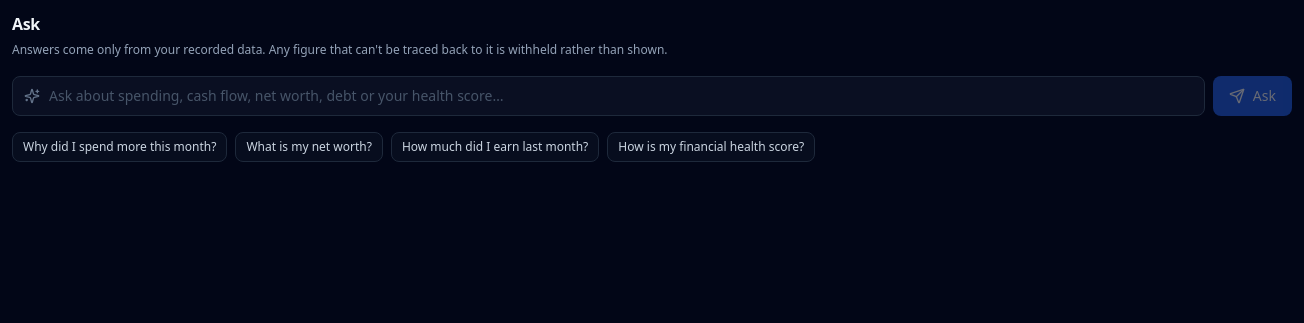
Test: AskSection › renders verified answer with simple string usedMetrics correctly
This screenshot has width=1304, height=323.
Replace the text in the field with placeholder "Ask about spending" with "How much did I earn last month?": (608, 96) [12,76,1205,116]
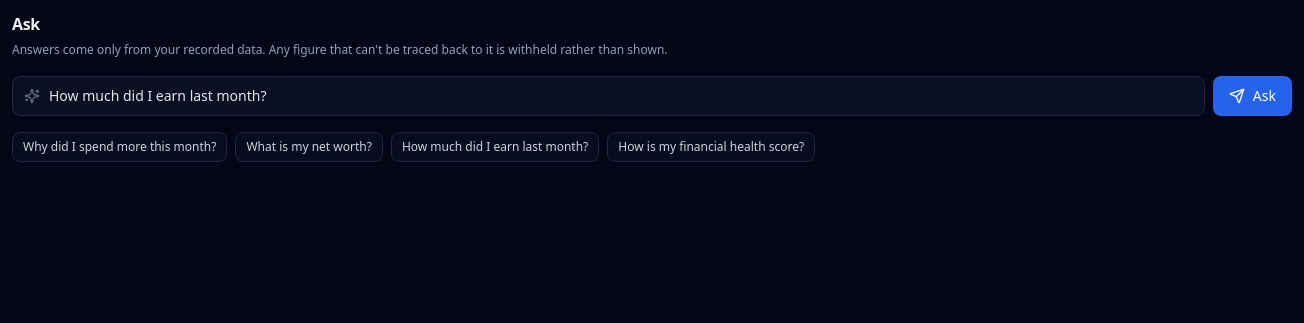
Submit the form with placeholder "Ask about spending", box [12,76,1292,116]
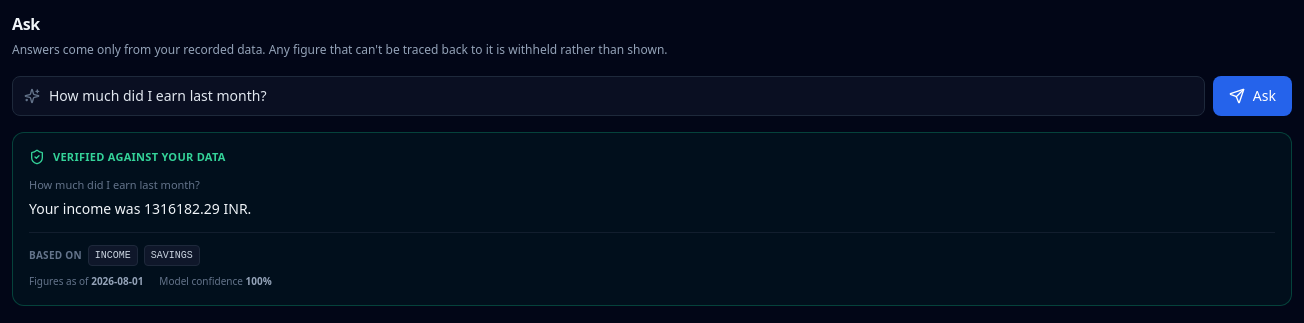
Result: the text "Your income was 1316182.29 INR." is shown at [29,198,251,218]
Result: the text "INCOME" is shown at [88,245,138,266]
Result: the text "SAVINGS" is shown at [144,245,200,266]
